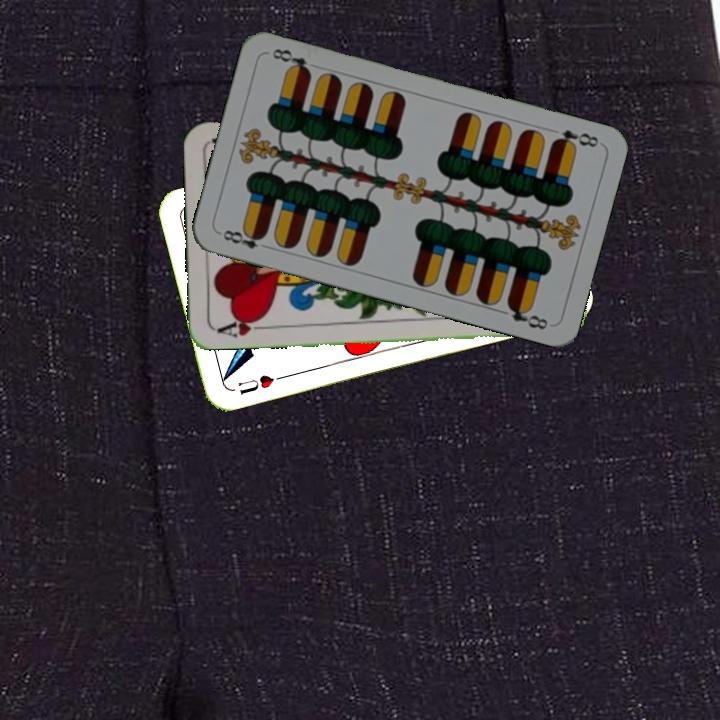E8: (216, 225, 273, 252), (548, 125, 601, 152)
HA: (213, 312, 272, 340)
HU: (234, 370, 287, 398)
